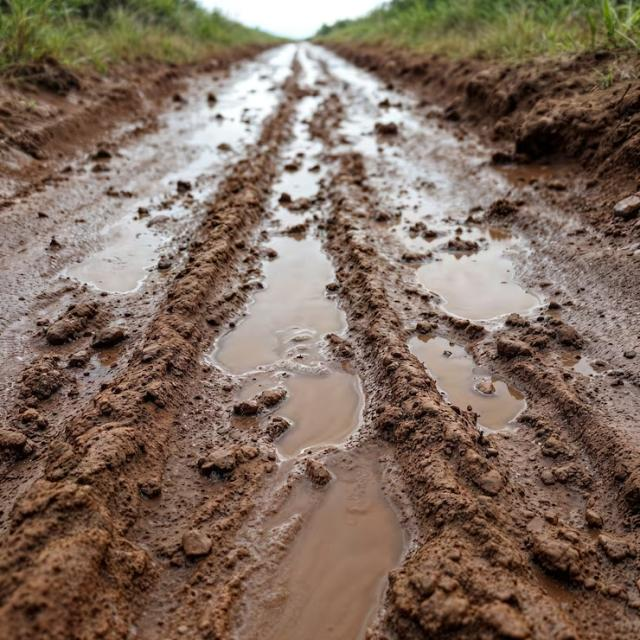suelo_humedo: (198, 125, 412, 544)
